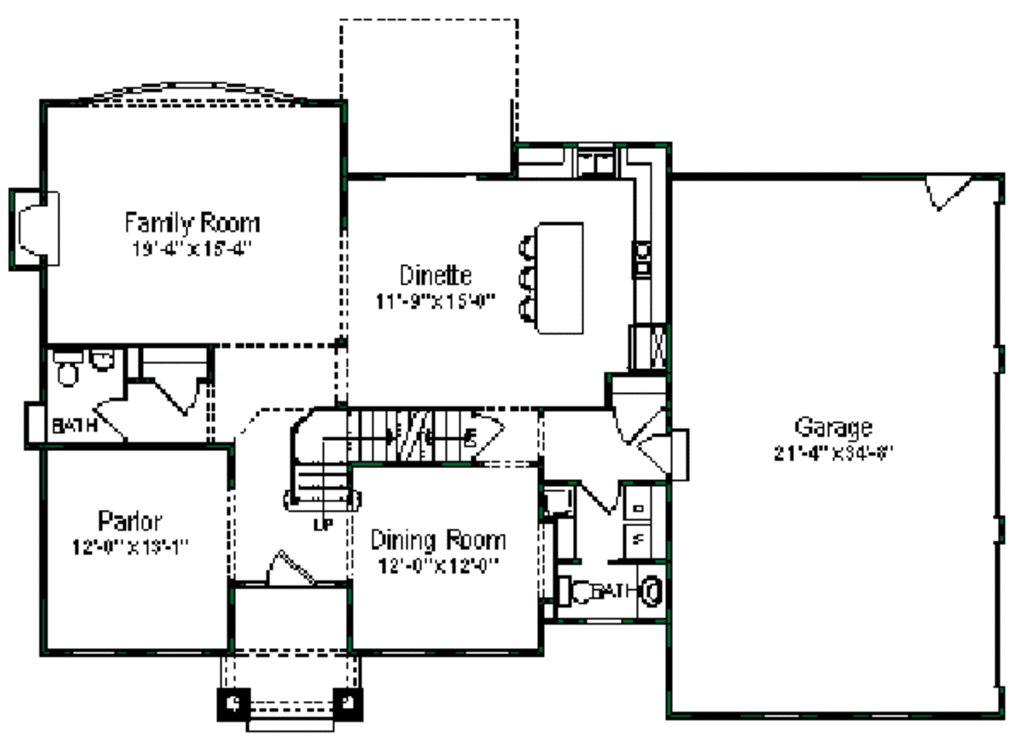door: (255, 550, 323, 589), (610, 401, 663, 446), (150, 375, 203, 418), (920, 174, 972, 216), (91, 395, 131, 437), (576, 479, 624, 514)
kitchen_bar: (517, 218, 587, 340)
large_sink: (43, 350, 89, 389), (558, 573, 599, 611)
small_sink: (633, 564, 668, 620)
stairs: (288, 405, 504, 533)
windows: (93, 82, 301, 112)
